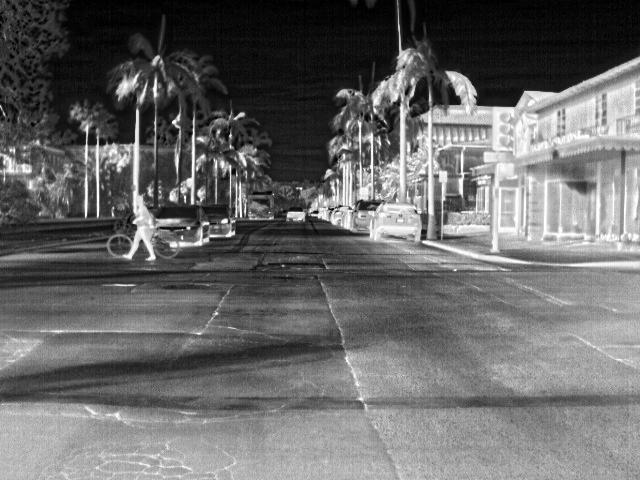car: (368, 204, 423, 244), (156, 205, 209, 231), (200, 204, 236, 239), (349, 198, 376, 230), (335, 206, 351, 229), (177, 228, 200, 244), (287, 205, 304, 223), (324, 205, 338, 223), (316, 204, 330, 220), (307, 207, 320, 220)
person: (131, 197, 152, 261)
